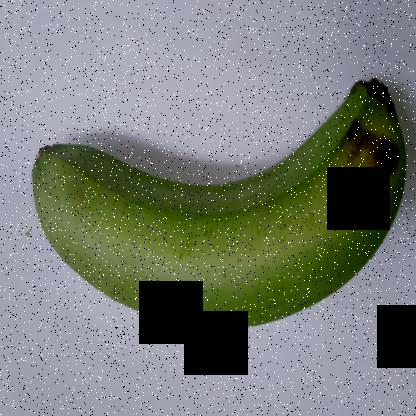freshunripe: (22, 56, 414, 353)
